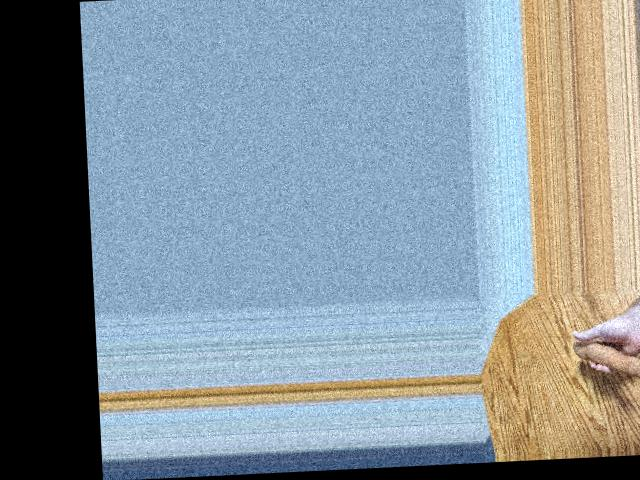sweet_potato: (569, 339, 640, 384)
